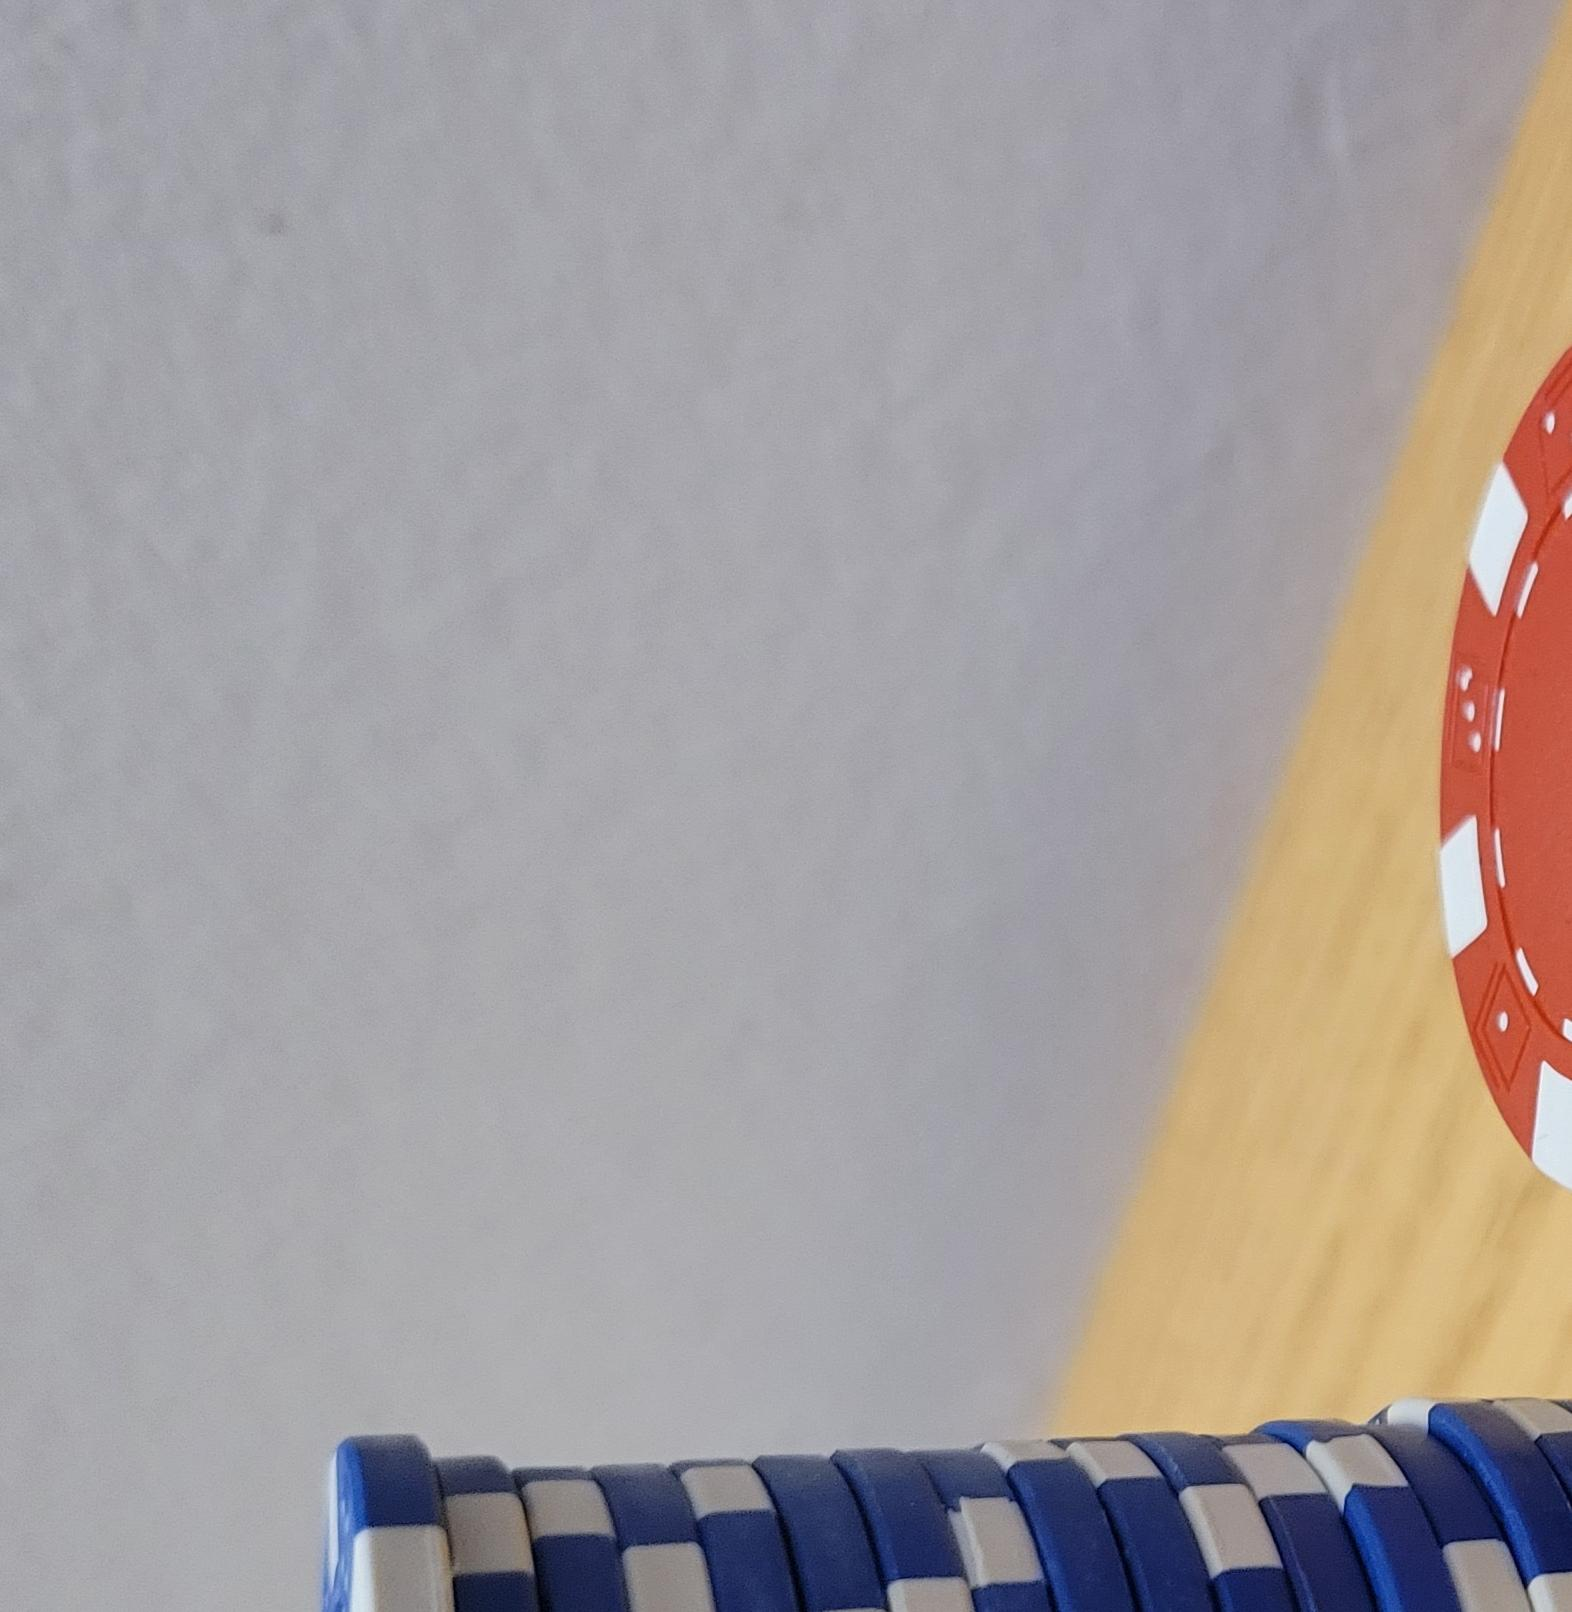Chip: (1, 114, 1116, 1612)
